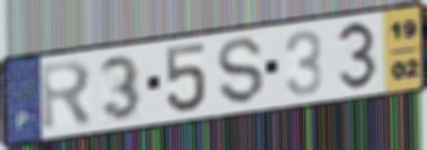3: (335, 17, 381, 95), (98, 52, 144, 122), (283, 28, 324, 98)
5: (163, 40, 209, 114)
R: (38, 57, 95, 134)
S: (215, 35, 267, 106)
